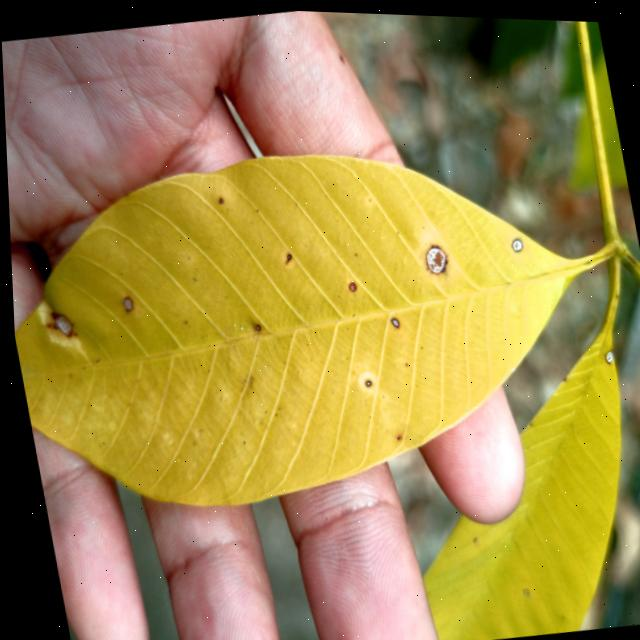Colletotrichum: (420, 239, 447, 273), (47, 310, 72, 340), (507, 234, 522, 250), (119, 296, 131, 312), (599, 344, 610, 359), (387, 314, 396, 327), (345, 279, 354, 291), (283, 251, 290, 259), (361, 377, 368, 384), (252, 322, 258, 329), (216, 197, 221, 203)
